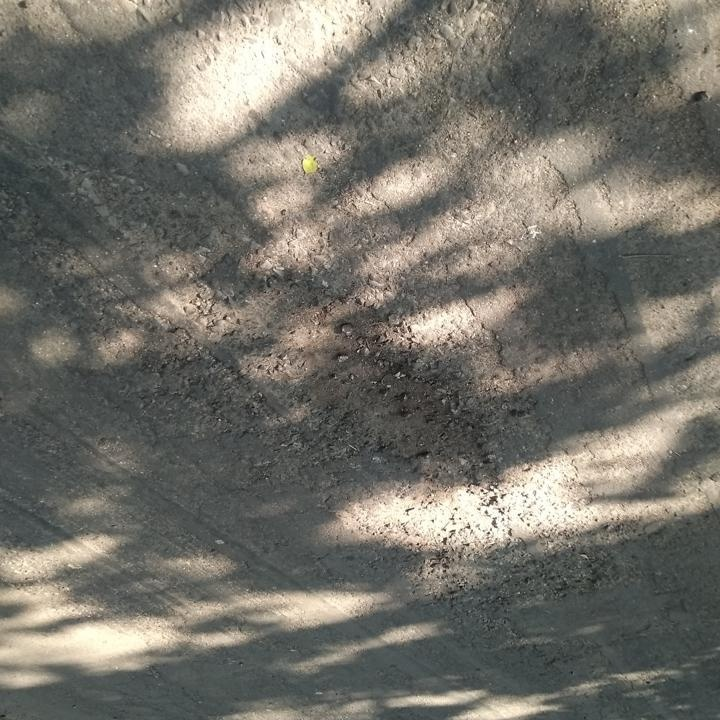pothole: (271, 299, 505, 495)
